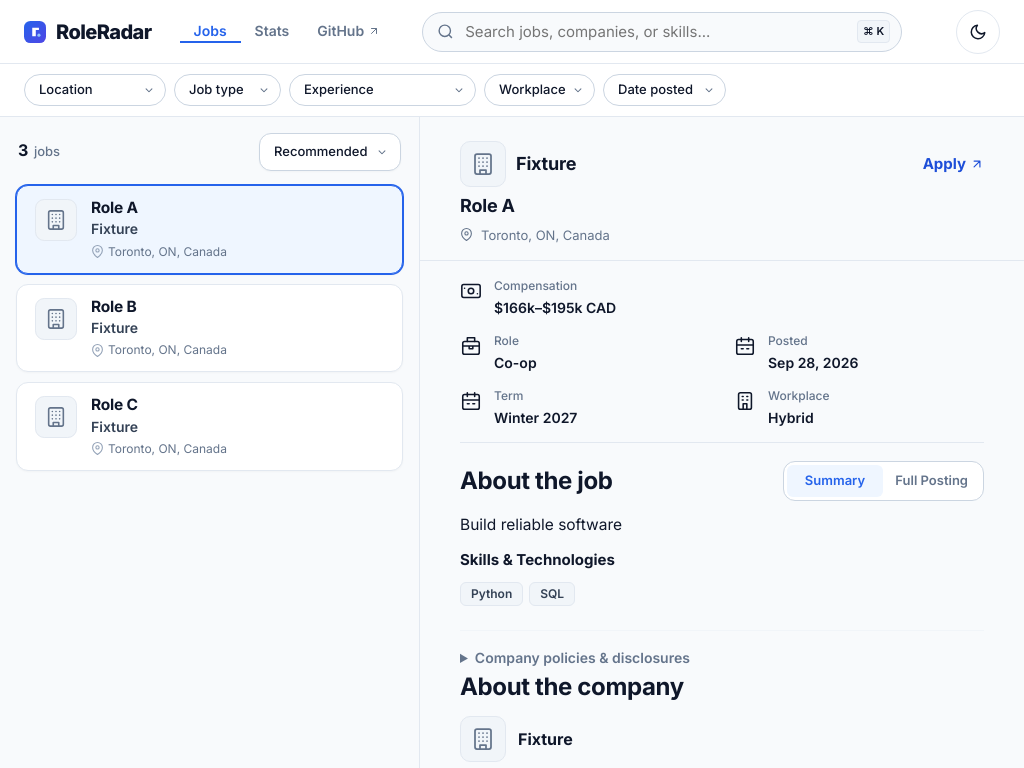
Test: desktop split view › does not render Unknown/N/A and does not repeat metadata; facts omit missing values
This screenshot has width=1024, height=768.
Expected: the heading "Role A" below "Apply" is shown, top-left (460, 195), bottom-right (515, 216)
Expected: the text "Sep 28, 2026" is shown, top-left (768, 354), bottom-right (858, 371)
Click the button with aria-label "View details for Role B". click: point(114, 306)
box: top-left (91, 297), bottom-right (136, 316)
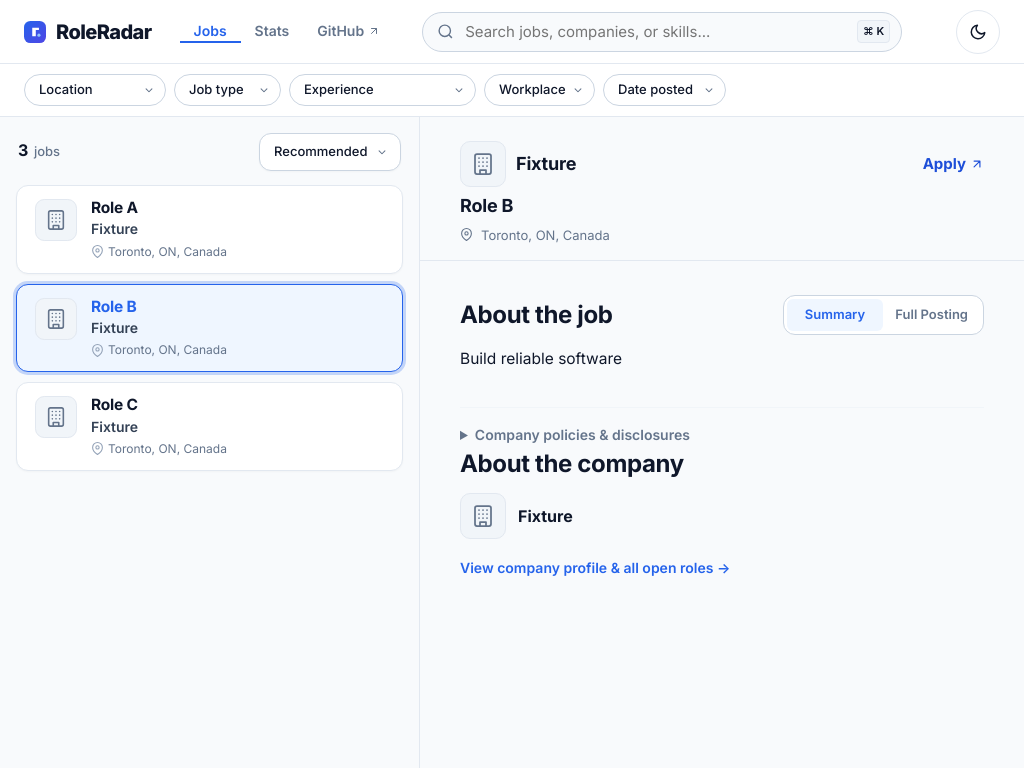
Expected: the heading "Role B" below "Apply" is shown, top-left (460, 195), bottom-right (513, 216)
